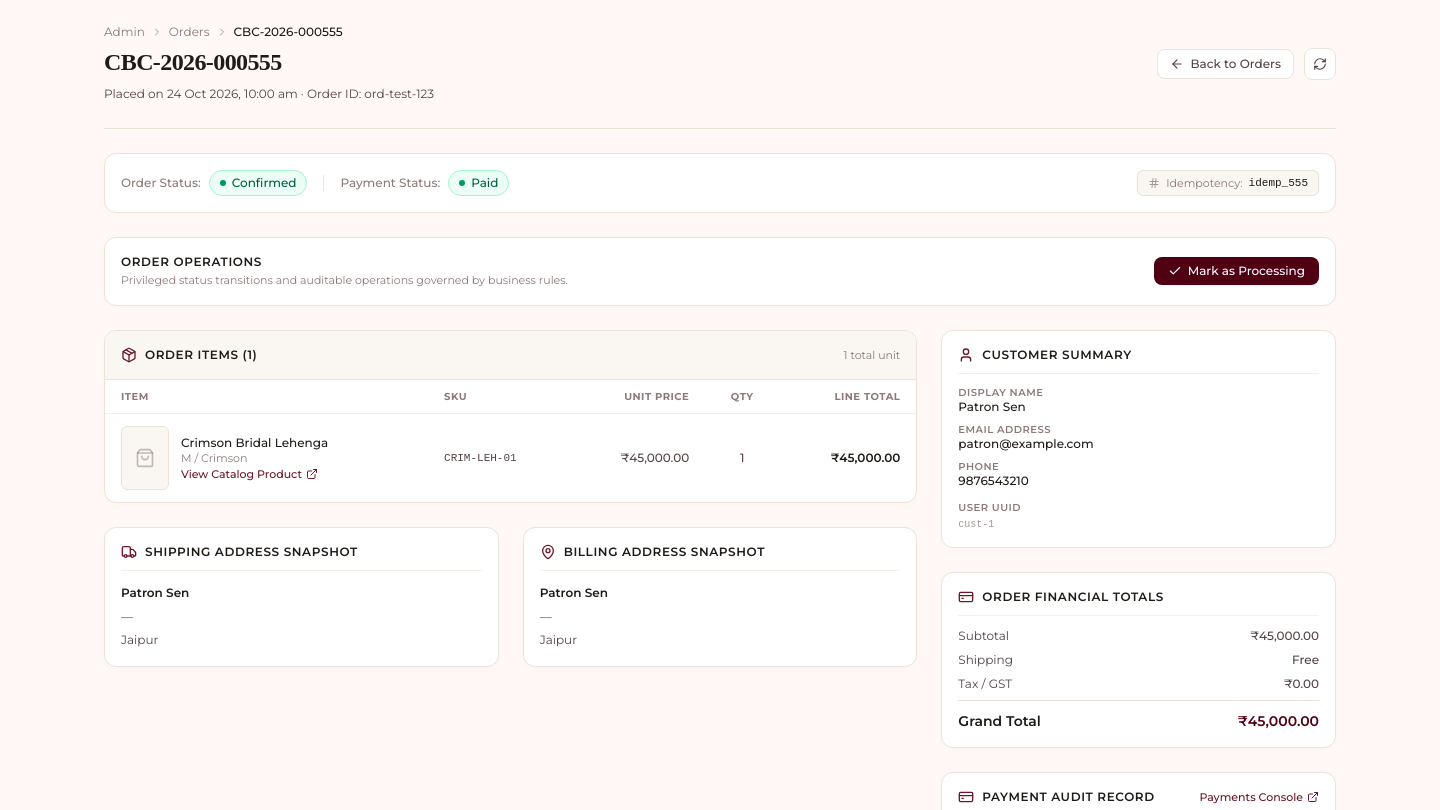
AdminOrderDetailClient Operations & Transitions (Sprint A4.3) › displays backend error message in modal when operation is rejected
The image size is (1440, 810).
Click the button "Mark as Processing" at point(1236, 271), box top-left (1154, 257), bottom-right (1319, 285)
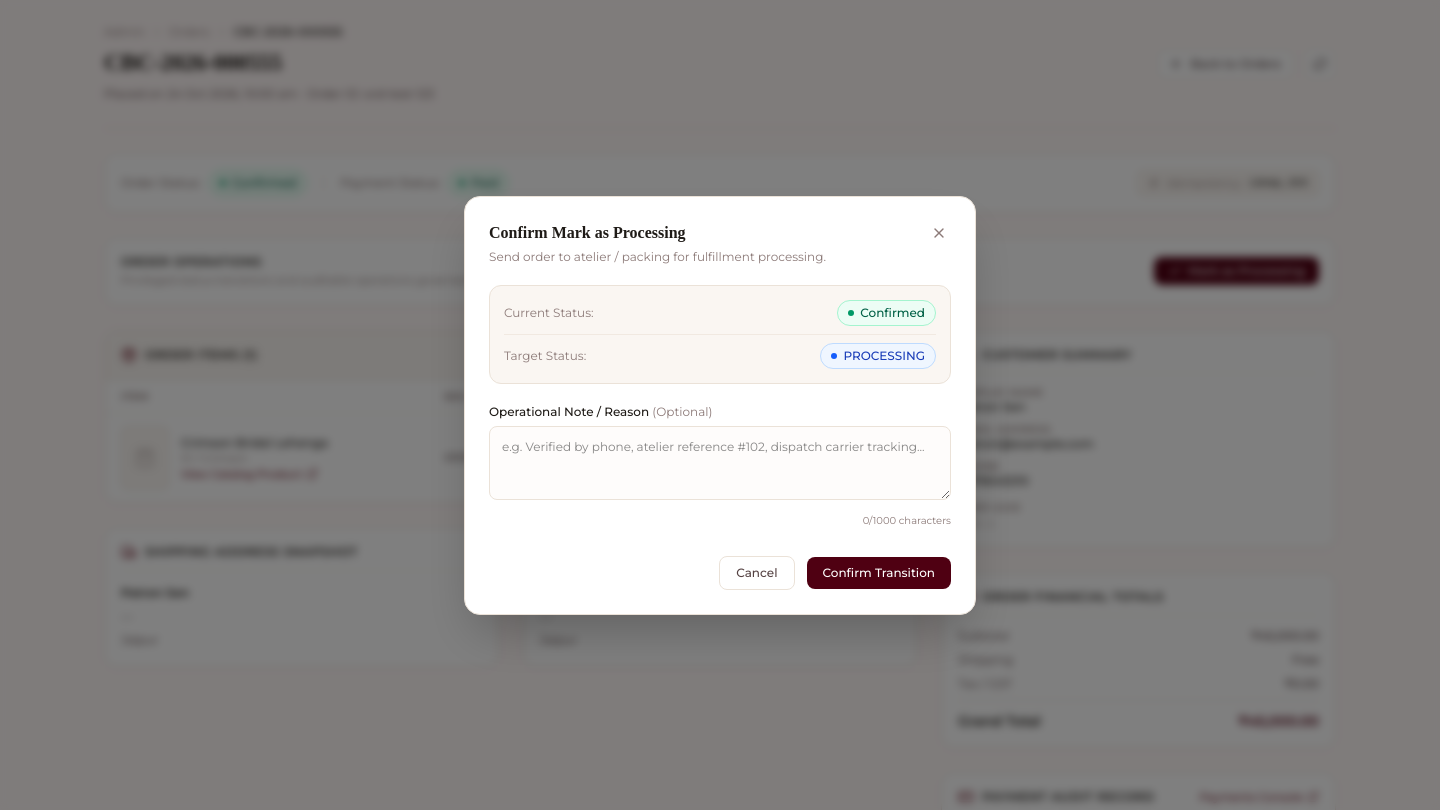
Click the button "Confirm Transition" at point(879, 572), box top-left (806, 556), bottom-right (951, 588)
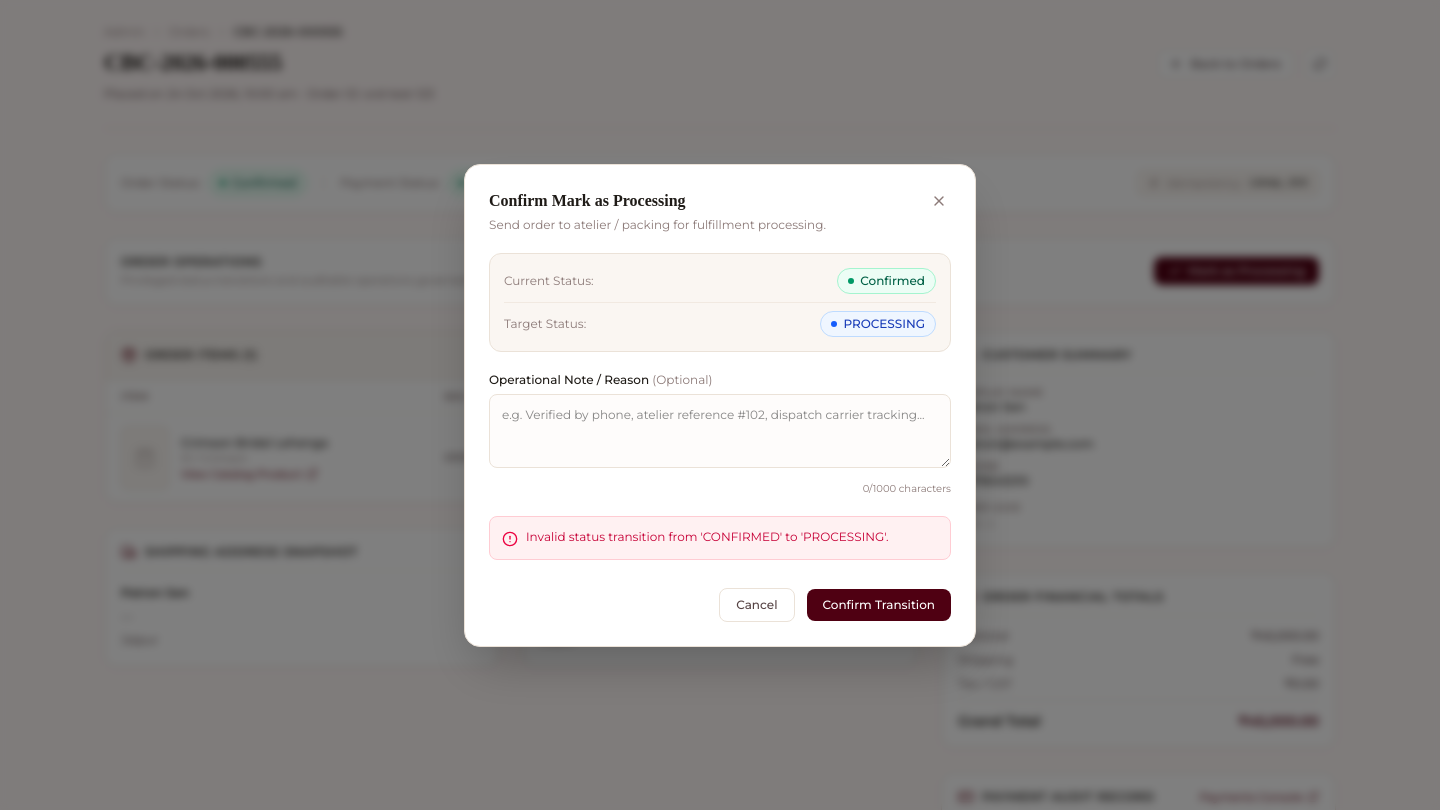
Expected: the dialog is shown
Expected: the text "Invalid status transition from 'CONFIRMED' to 'PROCESSING'." is shown, top-left (526, 528), bottom-right (889, 544)
